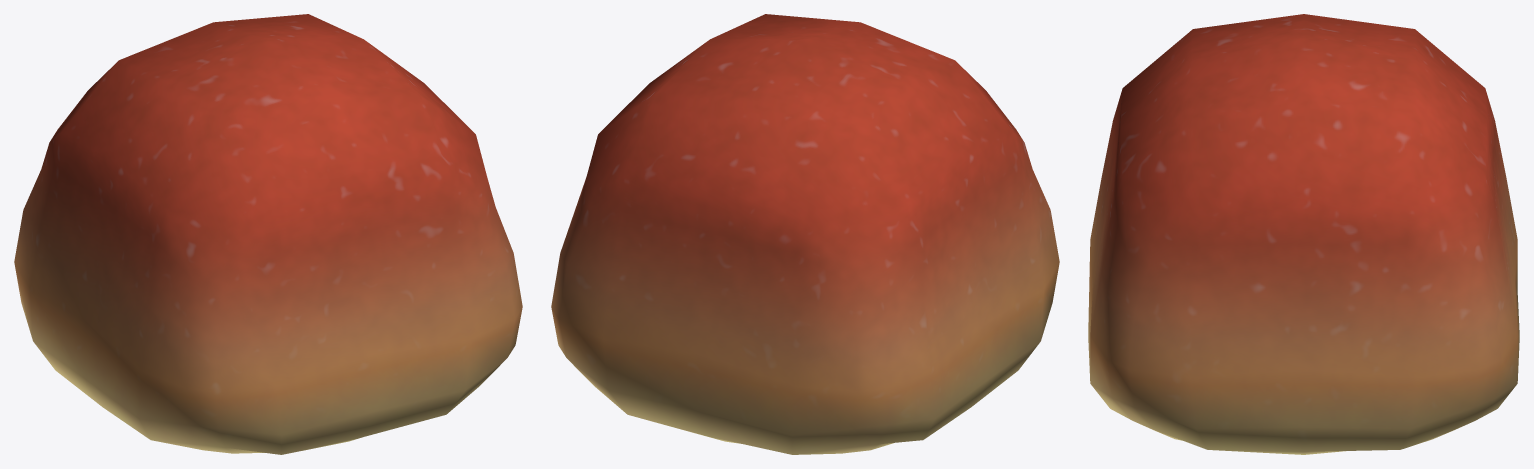
Rendered from roll.fbx.
3 views of the same model, side by side, from view 1: azimuth 30°, elevation 25°; view 2: azimuth 150°, elevation 25°; view 3: azimuth 270°, elevation 25° (orthographic).
Visible parts, largest first — view 1: Roll; view 2: Roll; view 3: Roll.
Part boxes in pixels (x1,y1,x2,y2): Roll: (14,14,522,454); Roll: (551,14,1059,454); Roll: (1088,14,1519,454).
Size of the model in its own units: 109 by 98.44 by 109.
